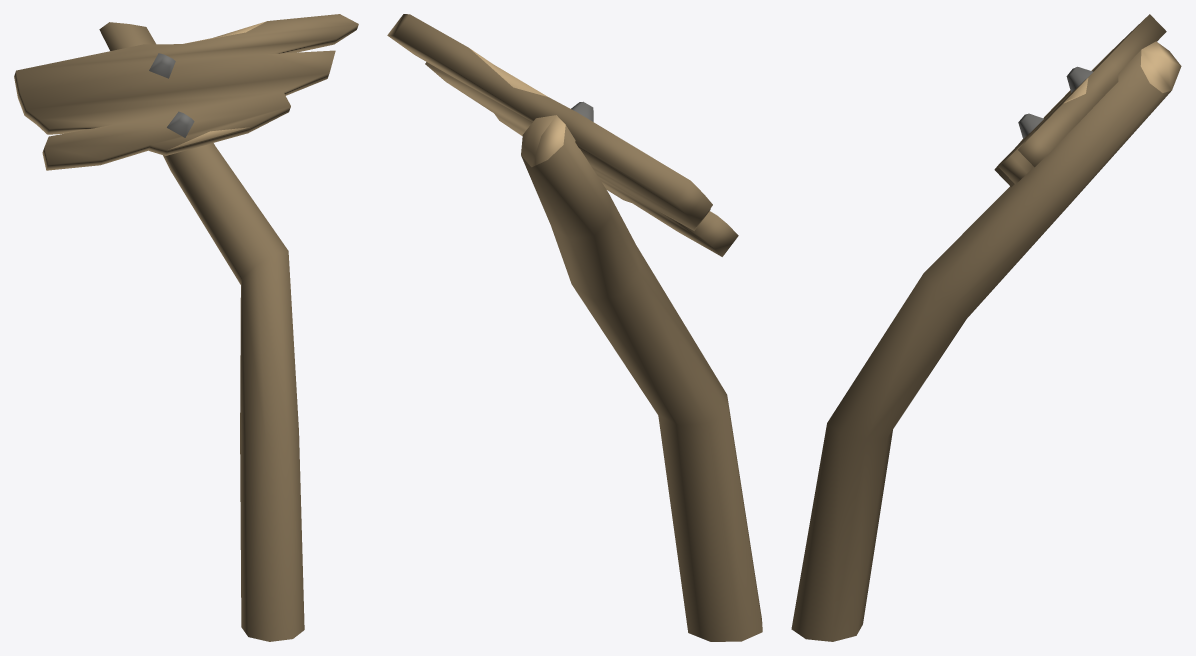
Rendered from rpgpp_av_road_sign_01a.gltf.
3 renders of one model, left to right at view 1: azimuth 30°, elevation 25°; view 2: azimuth 150°, elevation 25°; view 3: azimuth 270°, elevation 25°, orthographic. The views are drawn at different scales.
Visible parts, largest first — view 1: rpgpp_av_road_sign_01a; view 2: rpgpp_av_road_sign_01a; view 3: rpgpp_av_road_sign_01a.
Boxes of the visible parts, box(x1,y1,x2,y2) form: rpgpp_av_road_sign_01a: box(14, 14, 358, 641); rpgpp_av_road_sign_01a: box(387, 14, 762, 641); rpgpp_av_road_sign_01a: box(791, 14, 1181, 641).
Size of the model in its own units: 0.0115 by 0.0191 by 0.0117.
Materials: 1 (1 with a texture image).
